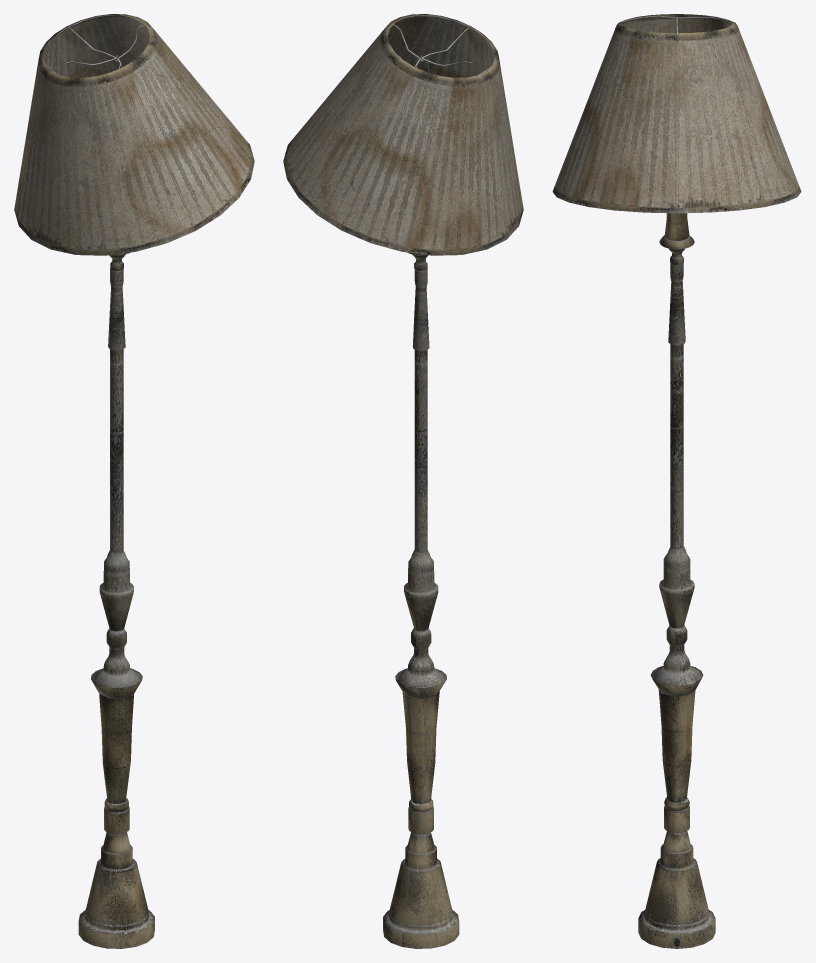
Rendered from sm35_025_lampshade01a.fbx.
3 views of the same model, side by side, from view 1: azimuth 30°, elevation 25°; view 2: azimuth 150°, elevation 25°; view 3: azimuth 270°, elevation 25° (orthographic).
Visible parts, largest first — view 1: LOD_1_Group_2_Sub_1__sm35_025_LampShade01A_C_Mat, LOD_1_Group_0_Sub_1__sm35_025_LampShade01A_A_Mat; view 2: LOD_1_Group_2_Sub_1__sm35_025_LampShade01A_C_Mat, LOD_1_Group_0_Sub_1__sm35_025_LampShade01A_A_Mat; view 3: LOD_1_Group_2_Sub_1__sm35_025_LampShade01A_C_Mat, LOD_1_Group_0_Sub_1__sm35_025_LampShade01A_A_Mat, LOD_1_Group_3_Sub_1__sm35_025_LampShade01A_A_Mat.
Part boxes in pixels (box(x1,y1,x2,y2)): LOD_1_Group_2_Sub_1__sm35_025_LampShade01A_C_Mat: box(14, 14, 254, 255); LOD_1_Group_0_Sub_1__sm35_025_LampShade01A_A_Mat: box(40, 14, 154, 948); LOD_1_Group_2_Sub_1__sm35_025_LampShade01A_C_Mat: box(283, 14, 523, 255); LOD_1_Group_0_Sub_1__sm35_025_LampShade01A_A_Mat: box(383, 14, 497, 948); LOD_1_Group_2_Sub_1__sm35_025_LampShade01A_C_Mat: box(552, 14, 801, 213); LOD_1_Group_0_Sub_1__sm35_025_LampShade01A_A_Mat: box(620, 15, 733, 948); LOD_1_Group_3_Sub_1__sm35_025_LampShade01A_A_Mat: box(659, 213, 694, 265).
Size of the model in its own units: 0.467 by 1.95 by 0.4835.
